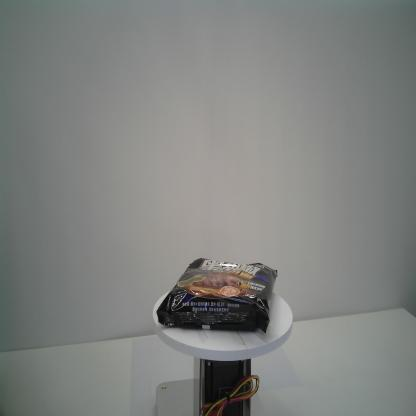Instant Noodles: (156, 258, 278, 335)
